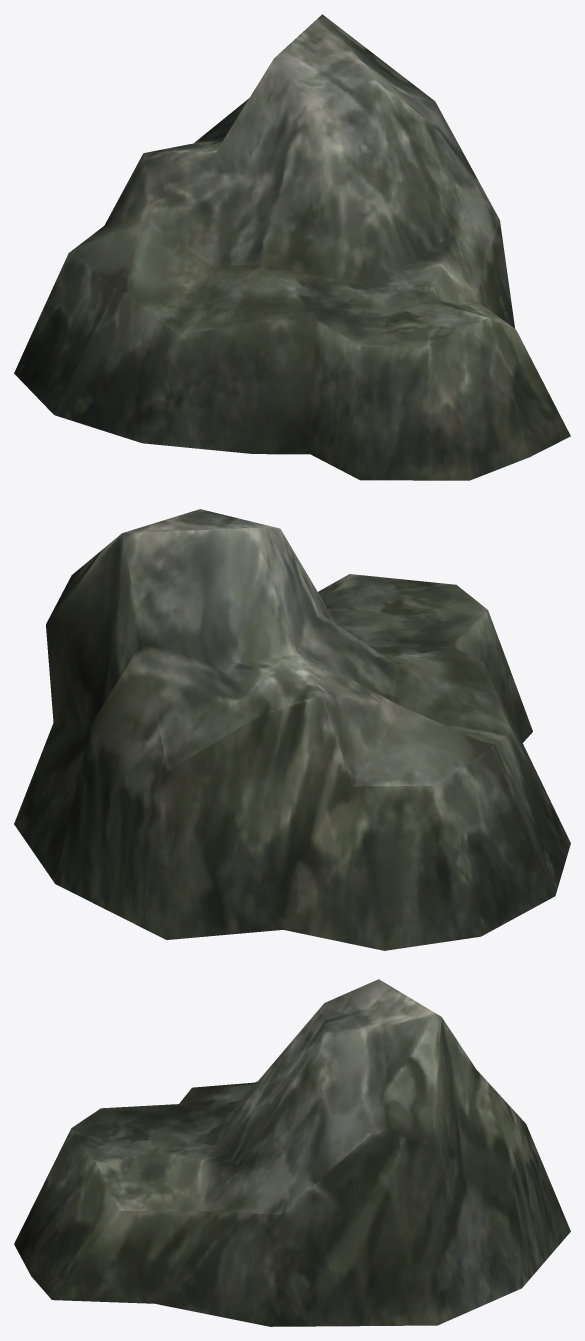
The model's file is yw_roc005.FBX.
3 renders of one model, top to bottom at view 1: azimuth 30°, elevation 25°; view 2: azimuth 150°, elevation 25°; view 3: azimuth 270°, elevation 25°, orthographic. The views are drawn at different scales.
Parts seen in each view (by area): view 1: yw_roc005; view 2: yw_roc005; view 3: yw_roc005.
Part boxes in pixels (bbox=[...]): yw_roc005: bbox=[14, 14, 570, 480]; yw_roc005: bbox=[14, 509, 570, 950]; yw_roc005: bbox=[14, 979, 570, 1326].
Bounding box in the file's own units: 8.91 × 5.64 × 10.77.
